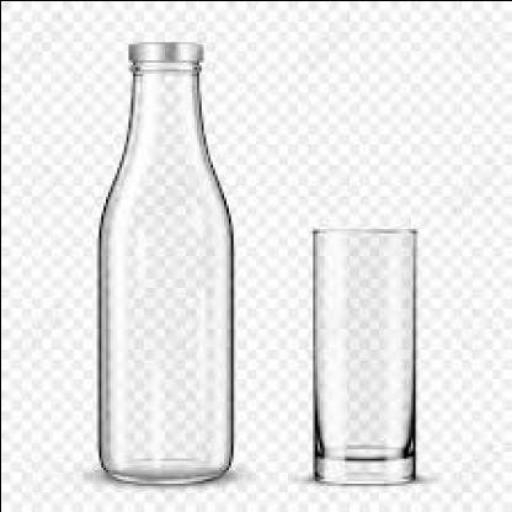glass: (96, 57, 230, 485), (307, 223, 414, 482)
metal: (126, 37, 198, 59)
